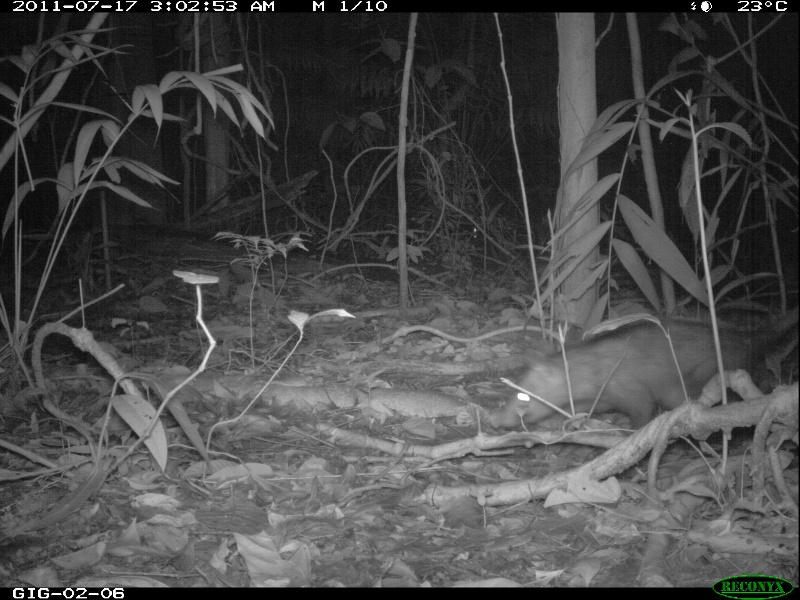opossum: (495, 308, 795, 444)
